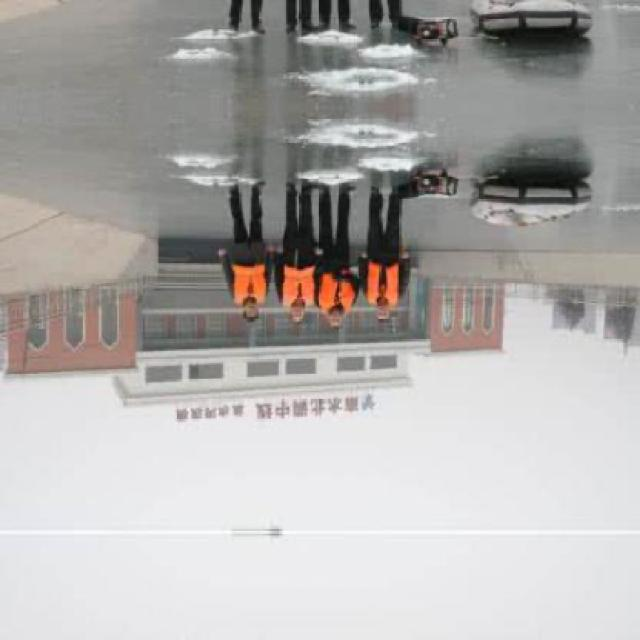sin casco: (233, 300, 264, 340), (376, 302, 409, 332), (323, 299, 352, 332), (280, 294, 309, 324)
